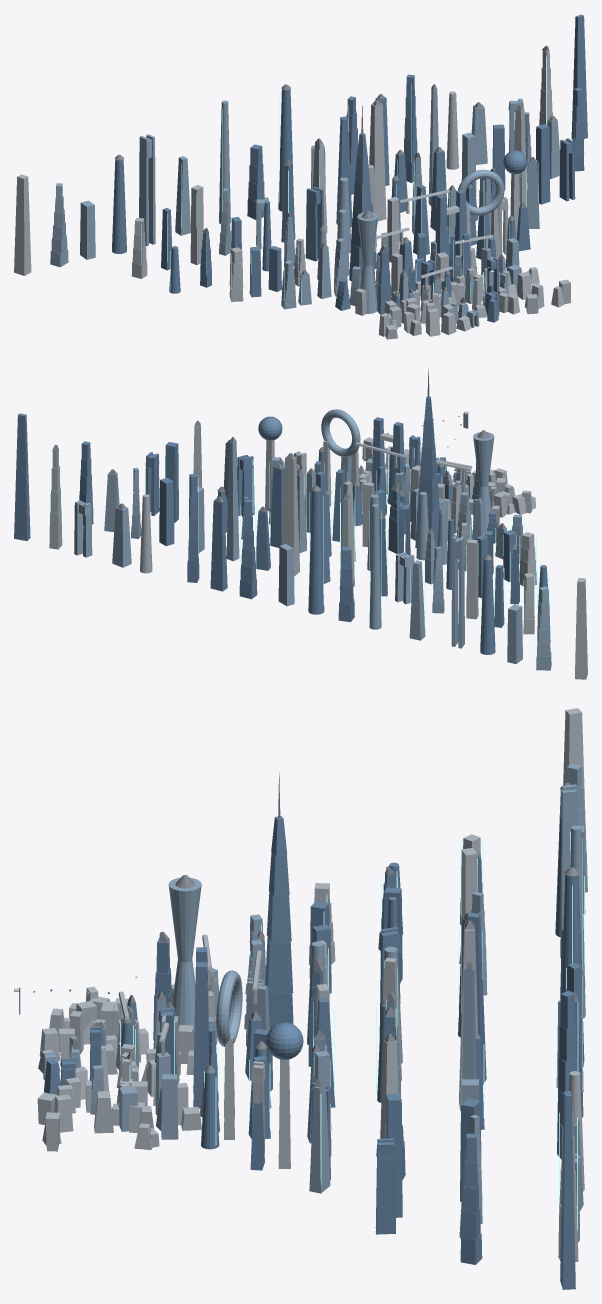
File: sky-loft.glb
The picture shows the model from 3 angles, top to bottom: view 1: azimuth 30°, elevation 25°; view 2: azimuth 150°, elevation 25°; view 3: azimuth 270°, elevation 25°; orthographic projection. The views are drawn at different scales.
Parts seen in each view (by area): view 1: MERGED_SL_CityGlassA, MERGED_SL_CityGlassB, MERGED_SL_CityConcrete, MERGED_SL_CityEdge, ROOF_SL_Metal; view 2: MERGED_SL_CityGlassA, MERGED_SL_CityGlassB, MERGED_SL_CityConcrete, MERGED_SL_CityEdge, ROOF_SL_Metal; view 3: MERGED_SL_CityGlassA, MERGED_SL_CityConcrete, MERGED_SL_CityGlassB, MERGED_SL_CityEdge, ROOF_SL_Metal.
Boxes of the visible parts, box(x1,y1,x2,y2) form: MERGED_SL_CityGlassA: box(112, 14, 587, 322); MERGED_SL_CityGlassB: box(50, 87, 559, 327); MERGED_SL_CityConcrete: box(14, 50, 570, 339); MERGED_SL_CityEdge: box(141, 56, 546, 302); ROOF_SL_Metal: box(115, 45, 556, 303); MERGED_SL_CityGlassA: box(14, 396, 547, 654); MERGED_SL_CityGlassB: box(74, 409, 551, 670); MERGED_SL_CityConcrete: box(49, 423, 587, 679); MERGED_SL_CityEdge: box(49, 445, 549, 626); ROOF_SL_Metal: box(52, 368, 517, 560); MERGED_SL_CityGlassA: box(44, 797, 584, 1289); MERGED_SL_CityConcrete: box(37, 708, 585, 1261); MERGED_SL_CityGlassB: box(19, 763, 587, 1242); MERGED_SL_CityEdge: box(120, 831, 584, 1230); ROOF_SL_Metal: box(19, 773, 579, 1152).
Size of the model in its own units: 1855 by 551 by 1037.
